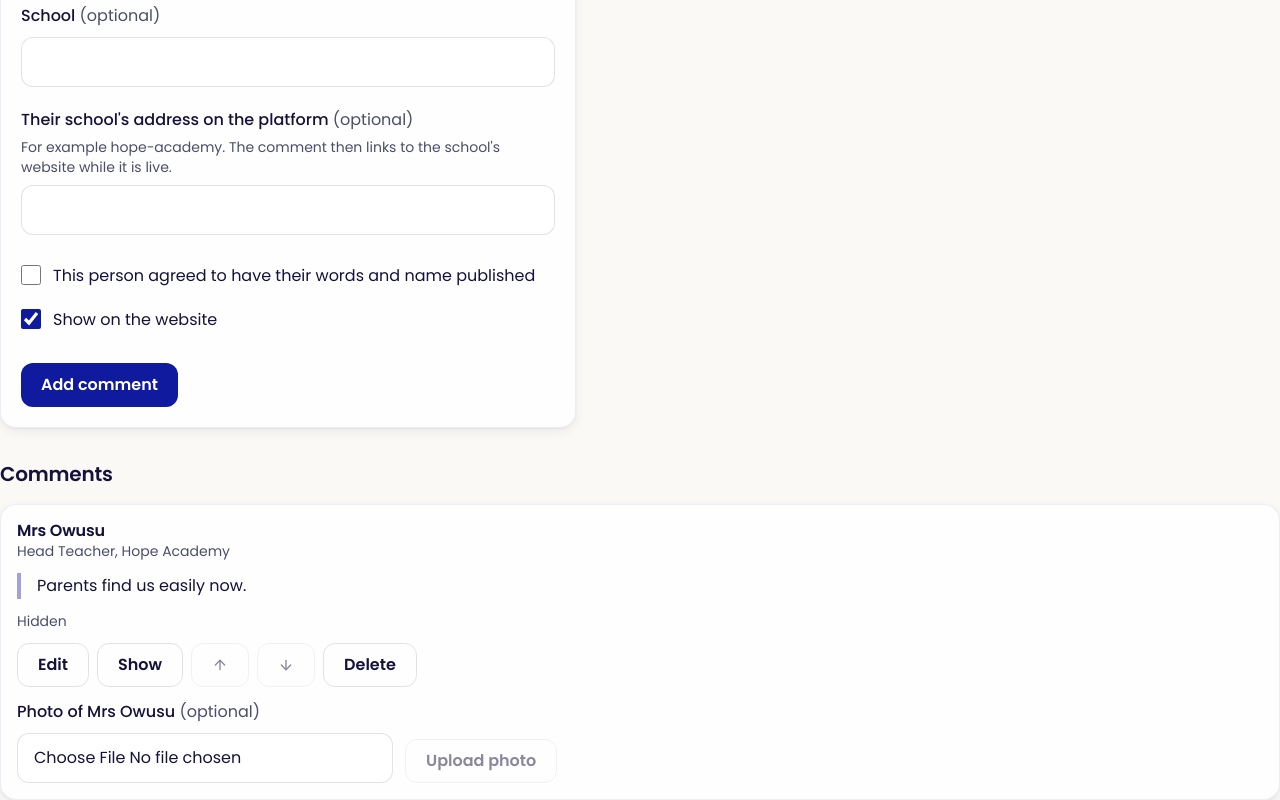
Scenario: TestimonialsManager › shows the server's reason a comment can't be shown
(page scrolled)
Click the button "Show" at (140, 665), box [97, 643, 183, 687]
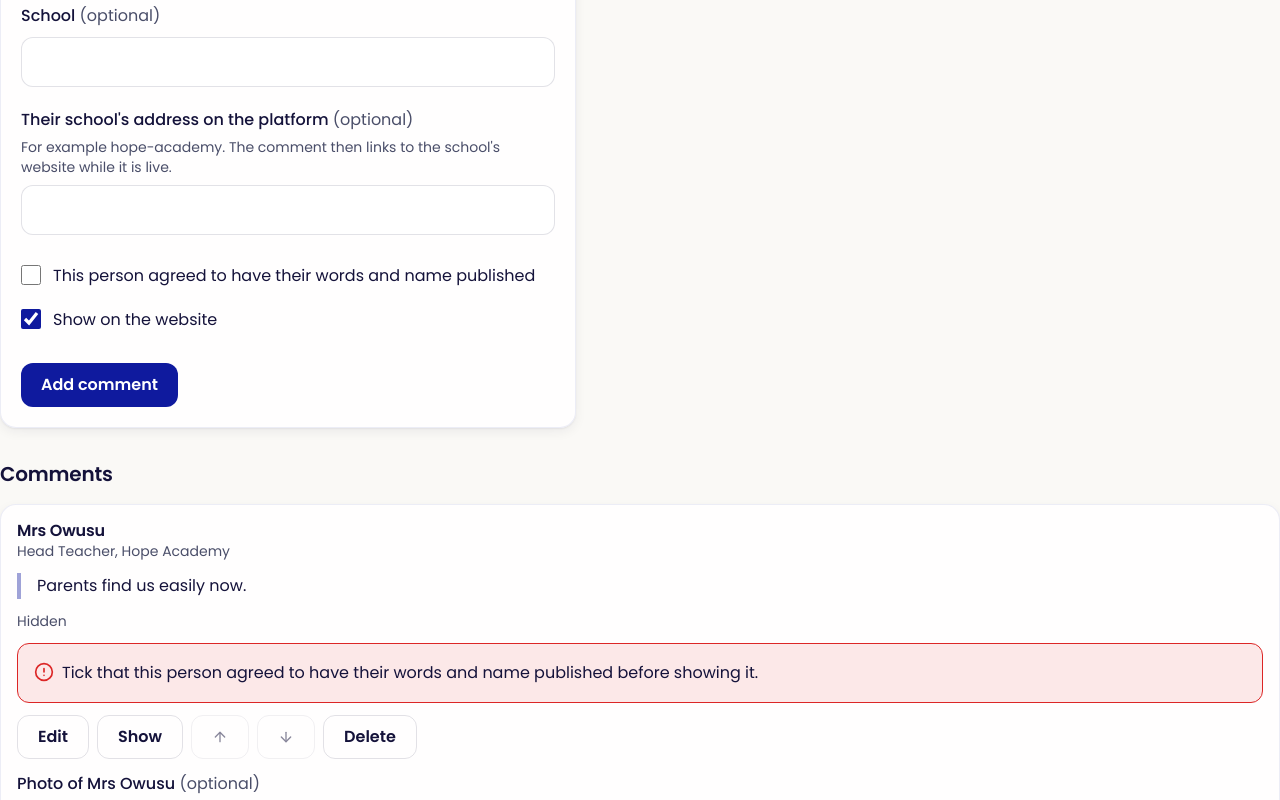
Result: the message shows "agreed to have their words" at [62, 661, 758, 684]
